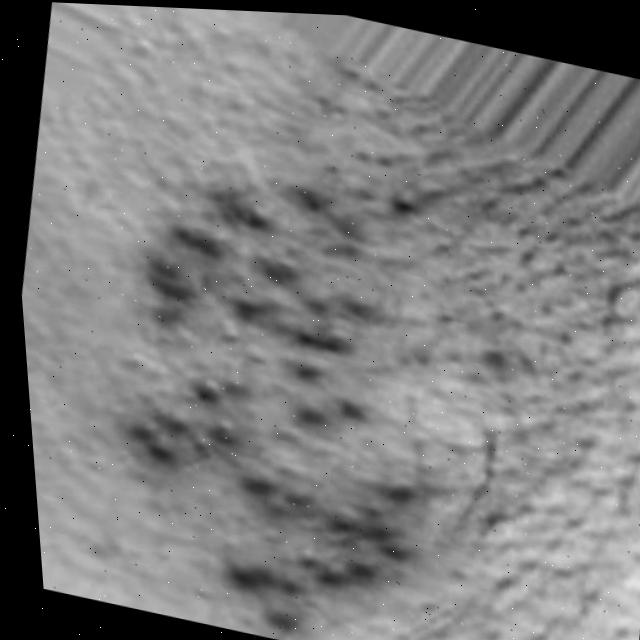Shingles: (69, 108, 502, 640)
